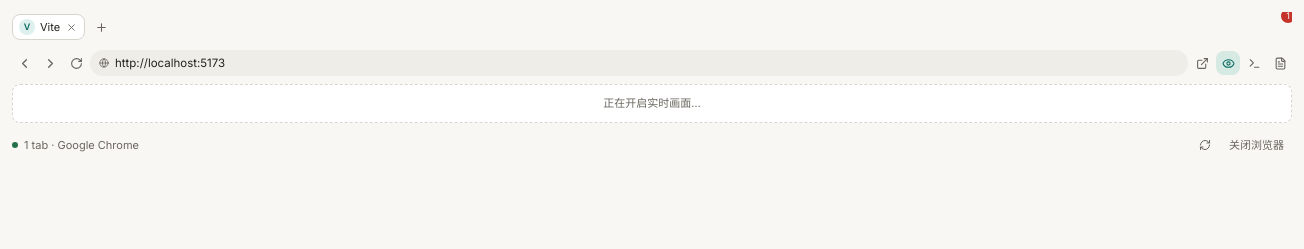
BrowserPanel › shows a console drawer with level tags, error badge and clearing
Expected: the text "Vite" is shown, [40, 19, 60, 35]
Click the button named "console 输出": (1254, 63) [1242, 51, 1266, 75]
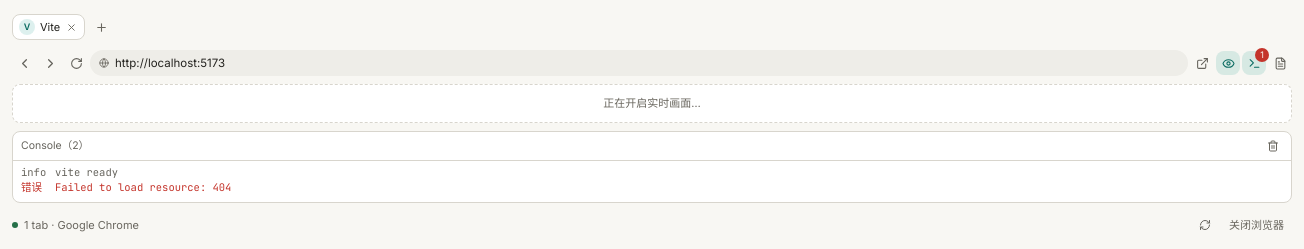
Result: the text "vite ready" is shown at [55, 164, 118, 180]
Result: the text "Failed to load resource: 404" is shown at [55, 180, 231, 196]
Result: the text "错误" is shown at [21, 180, 42, 194]
Click the button named "清空 console 输出": (1273, 146) [1263, 136, 1283, 156]
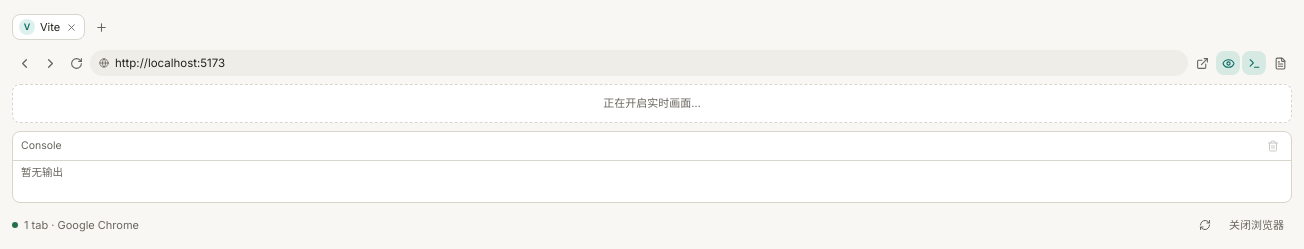
Result: the text "暂无输出" is shown at [21, 164, 63, 178]
